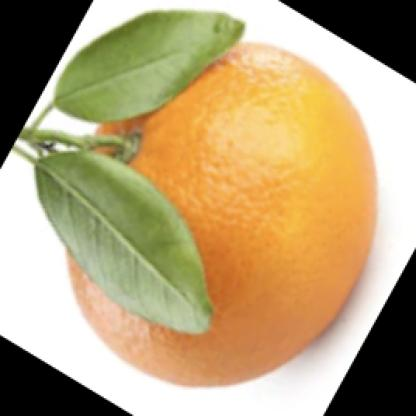fresh: (66, 41, 374, 385)
